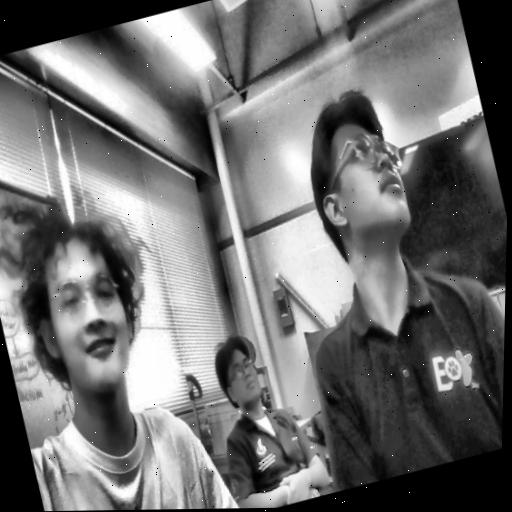Daifuku: (0, 165, 174, 433)
Not Daifuku: (286, 82, 431, 274), (213, 334, 273, 412)
